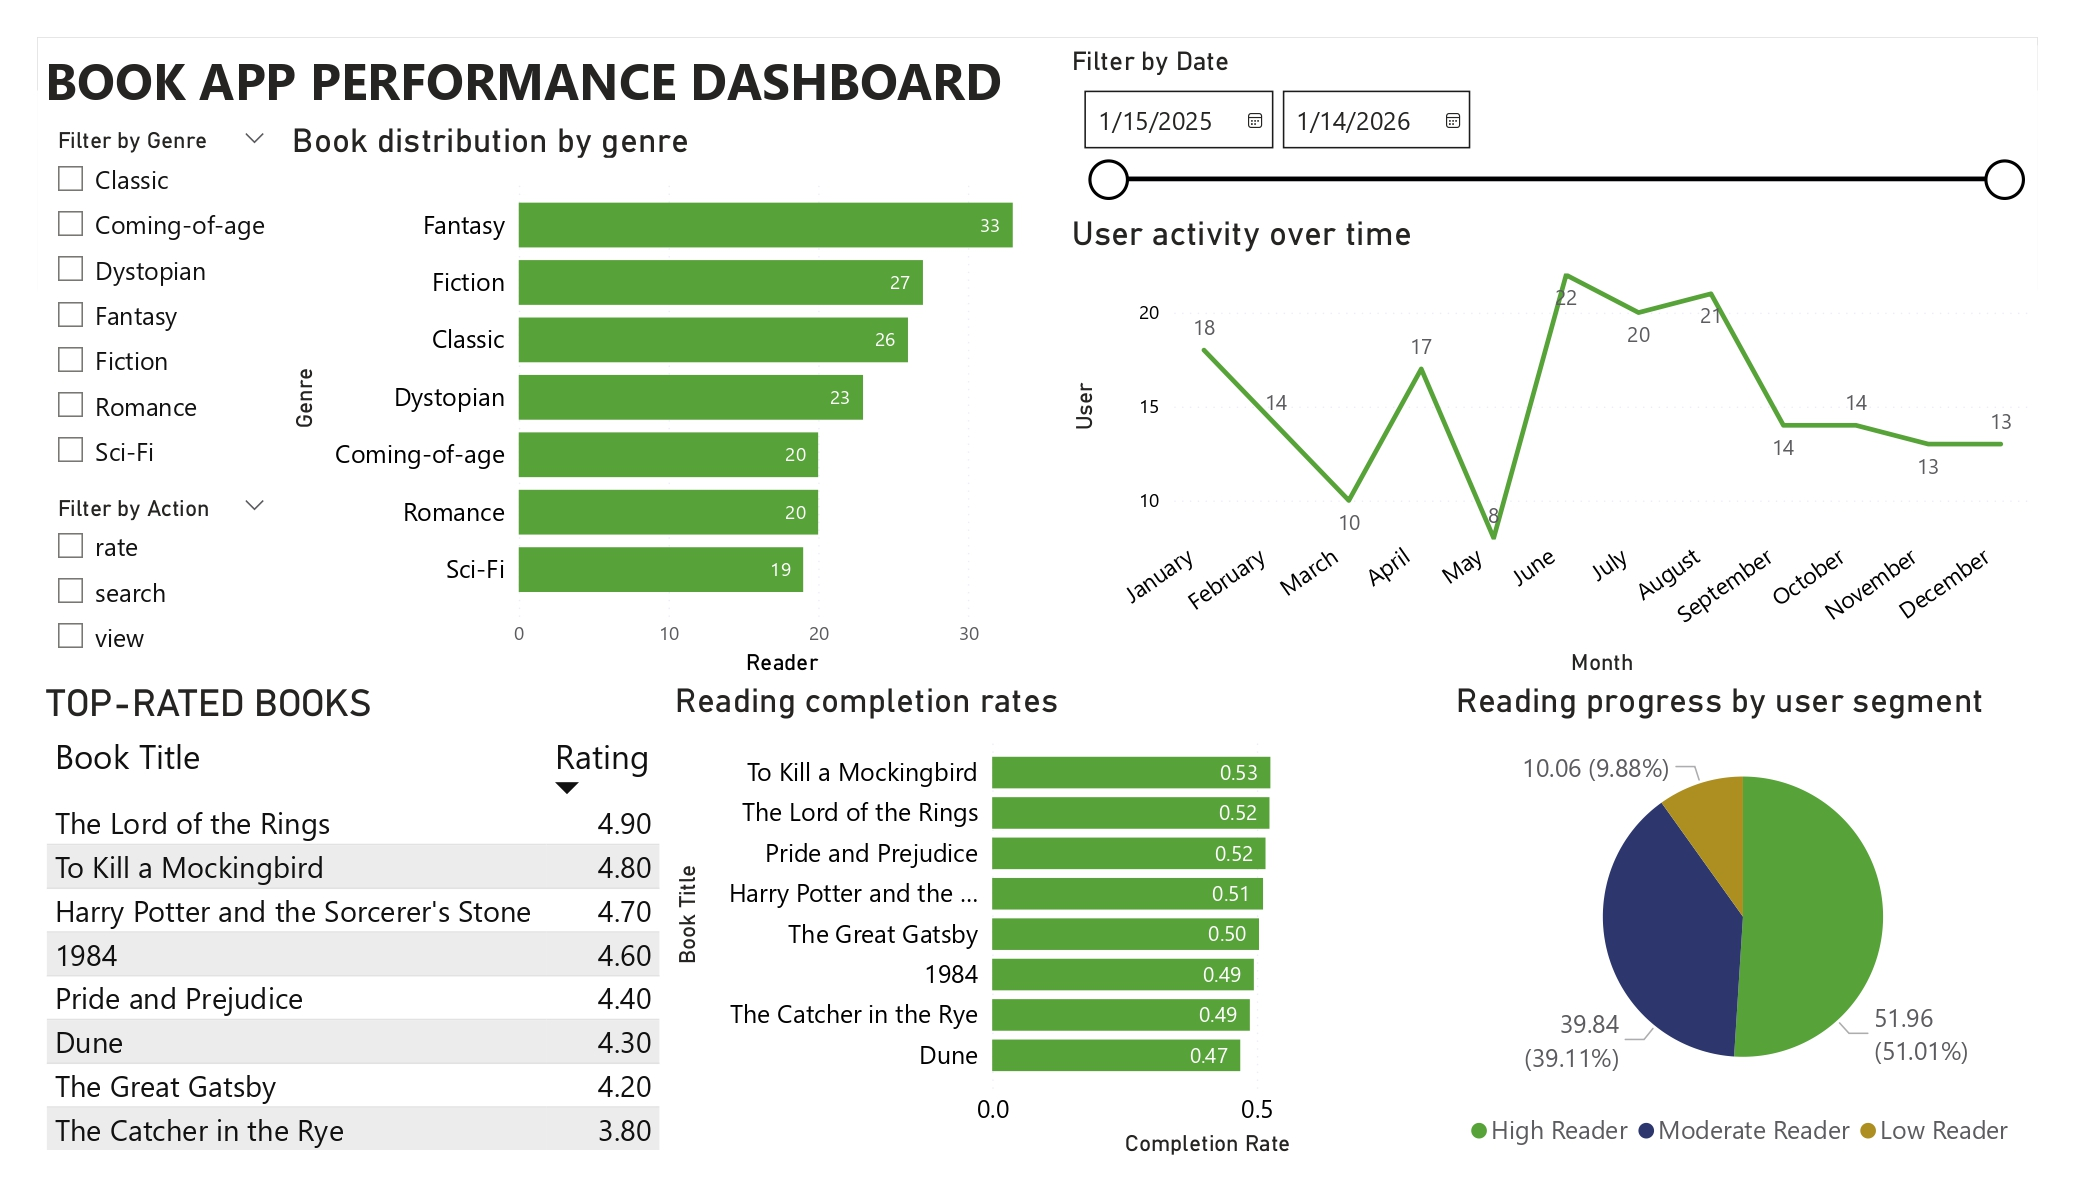

What the dashboard file says about the page in this screenshot:
{"tool":"powerbi","page":{"name":"Page 1","canvas":[1280,720],"ordinal":0},"visuals":[{"type":"clusteredBarChart","title":"Reading completion rates","fields":{"Category":["Query1.title"],"Y":["Query1.Completion Rate"]},"box":[403.3,411.7,500,308.3],"z":0},{"type":"textbox","box":[0,0,1280,65],"z":1000},{"type":"pieChart","title":"Reading progress by user segment","fields":{"Category":["Query2.segment"],"Y":["Sum(Query2.completion_rate)"]},"box":[903.3,411.7,376.7,308.3],"z":2000},{"type":"tableEx","title":"TOP-RATED BOOKS","fields":{"Values":["Query3.title","Query3.rating"]},"box":[0,411.7,403.3,308.3],"z":3000},{"type":"lineChart","title":"User activity over time","fields":{"Category":["Query1.date.Variation.Date Hierarchy.Month"],"Y":["Count(Query1.user_id)"]},"box":[656.7,113.3,623.3,298.3],"z":5000},{"type":"slicer","fields":{"Values":["Query1.genre"]},"box":[0,53.3,158.3,235],"z":6000},{"type":"slicer","fields":{"Values":["Query1.action"]},"box":[0,288.3,158.3,123.3],"z":7000},{"type":"barChart","title":"Book distribution by genre","fields":{"Category":["Query1.genre"],"Y":["Query1.Reader"]},"box":[158.3,53.3,498.3,358.3],"z":10500},{"type":"slicer","title":"Filter by Date","fields":{"Values":["Query1.date"]},"box":[656.7,5,623.3,108.3],"z":13000}]}

Visuals, with their boxes on the page's 1280x720 design canvas (x1, y1, x2, y2). These are canvas units, not pixel positions in the 2075x1200 screenshot, which may show the page scaled, cropped or inside an application window:
"Reading completion rates" clusteredBarChart: rect(403, 412, 903, 720)
textbox: rect(0, 0, 1280, 65)
"Reading progress by user segment" pieChart: rect(903, 412, 1280, 720)
"TOP-RATED BOOKS" tableEx: rect(0, 412, 403, 720)
"User activity over time" lineChart: rect(657, 113, 1280, 412)
slicer - Query1.genre: rect(0, 53, 158, 288)
slicer - Query1.action: rect(0, 288, 158, 412)
"Book distribution by genre" barChart: rect(158, 53, 657, 412)
"Filter by Date" slicer: rect(657, 5, 1280, 113)
